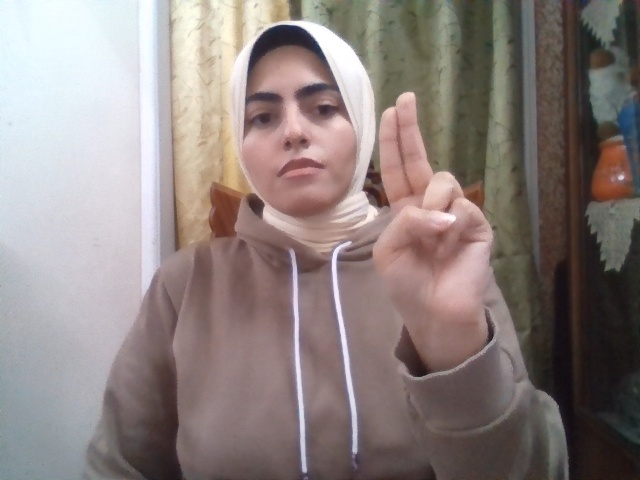U: (372, 92, 492, 330)
